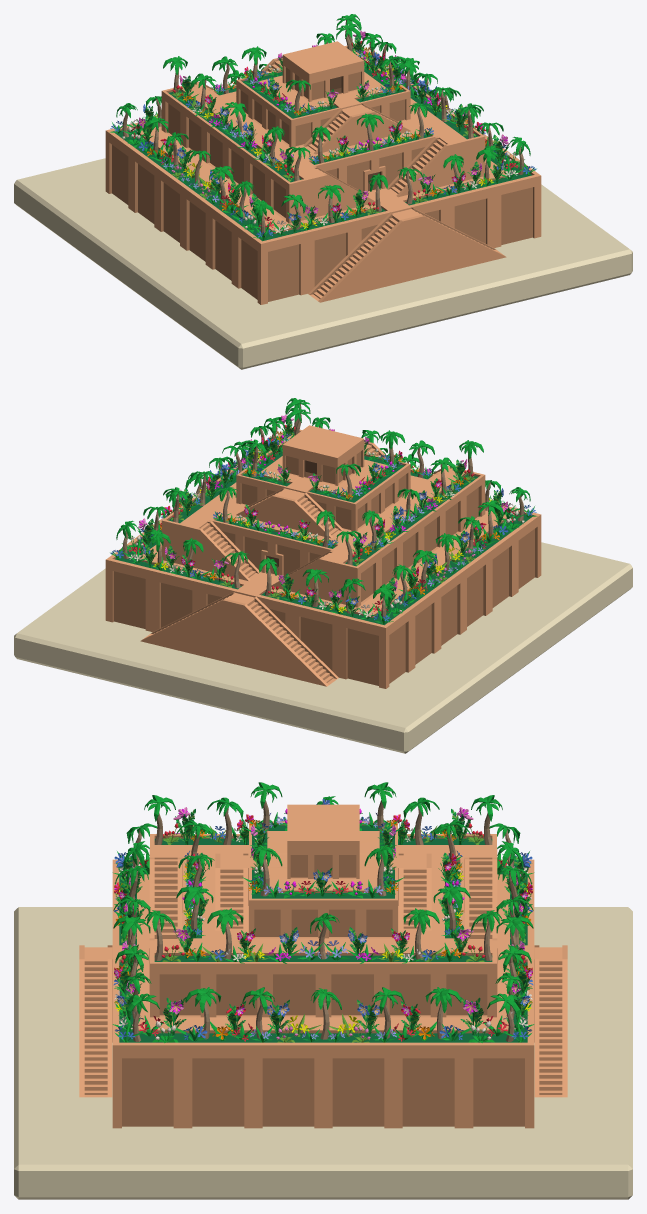
The model's file is Babylon3.glb.
3 renders of one model, top to bottom at view 1: azimuth 30°, elevation 25°; view 2: azimuth 150°, elevation 25°; view 3: azimuth 270°, elevation 25°, orthographic. The views are drawn at different scales.
Parts seen in each view (by area): view 1: base, ziggurat, ziggurat indents, ziggurat lighter, 1st side joined, 2nd level side, ziggurat green, 2nd side joined, 3rd level joined, 2nd level front, 2nd side middle joined, middle palm tree.001; view 2: base, ziggurat, ziggurat indents, ziggurat lighter, 1st side joined, 2nd level side, ziggurat green, 2nd side joined, 3rd level joined, 2nd level front, 2nd side middle joined; view 3: base, ziggurat, ziggurat indents, ziggurat lighter, 2nd level side, 1st side joined, ziggurat green, 2nd side joined, 3rd level joined, 2nd level front, 2nd side middle joined, middle palm tree.001.
Boxes of the visible parts, x1=… form: base: x1=14, y1=158, x2=632, y2=369; ziggurat: x1=105, y1=55, x2=541, y2=304; ziggurat indents: x1=109, y1=46, x2=534, y2=301; ziggurat lighter: x1=106, y1=41, x2=540, y2=300; 1st side joined: x1=109, y1=41, x2=536, y2=240; 2nd level side: x1=163, y1=14, x2=483, y2=181; ziggurat green: x1=114, y1=47, x2=531, y2=241; 2nd side joined: x1=122, y1=55, x2=524, y2=232; 3rd level joined: x1=241, y1=23, x2=404, y2=116; 2nd level front: x1=212, y1=33, x2=434, y2=163; 2nd side middle joined: x1=171, y1=89, x2=460, y2=199; middle palm tree.001: x1=222, y1=58, x2=419, y2=137; base: x1=14, y1=542, x2=632, y2=753; ziggurat: x1=105, y1=439, x2=541, y2=688; ziggurat indents: x1=112, y1=430, x2=537, y2=685; ziggurat lighter: x1=106, y1=425, x2=540, y2=684; 1st side joined: x1=110, y1=425, x2=537, y2=624; 2nd level side: x1=163, y1=398, x2=483, y2=565; ziggurat green: x1=115, y1=431, x2=532, y2=625; 2nd side joined: x1=122, y1=439, x2=524, y2=616; 3rd level joined: x1=242, y1=407, x2=405, y2=500; 2nd level front: x1=212, y1=417, x2=434, y2=547; 2nd side middle joined: x1=185, y1=472, x2=475, y2=583; base: x1=14, y1=907, x2=632, y2=1199; ziggurat: x1=79, y1=841, x2=567, y2=1128; ziggurat indents: x1=119, y1=823, x2=527, y2=1126; ziggurat lighter: x1=84, y1=804, x2=562, y2=1097; 2nd level side: x1=144, y1=795, x2=502, y2=963; 1st side joined: x1=112, y1=823, x2=534, y2=1042; ziggurat green: x1=119, y1=825, x2=527, y2=1042; 2nd side joined: x1=152, y1=828, x2=494, y2=1042; 3rd level joined: x1=242, y1=782, x2=404, y2=898; 2nd level front: x1=176, y1=820, x2=470, y2=938; 2nd side middle joined: x1=276, y1=988, x2=370, y2=1042; middle palm tree.001: x1=310, y1=796, x2=339, y2=959.
Bounding box in the file's own units: 8 × 3.63 × 8.
